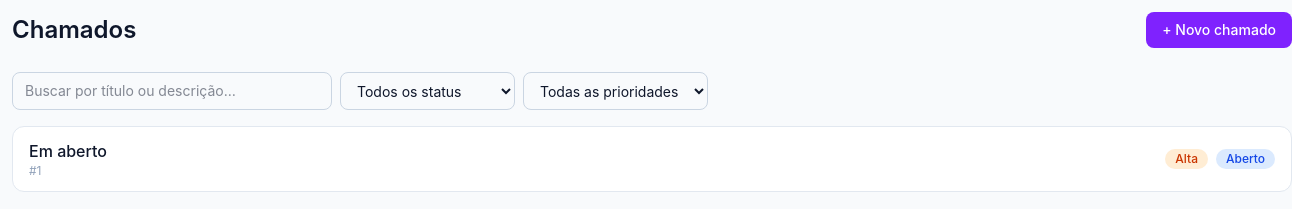
Test: TicketsPage › refaz a busca com o filtro de status na query string
Check: the text "Em aberto" is shown, box x1=29 y1=139 x2=107 y2=163
Select "Resolvido" in the dropdown named "Filtrar por status" at x=428, y=91, box x1=340 y1=72 x2=515 y2=110
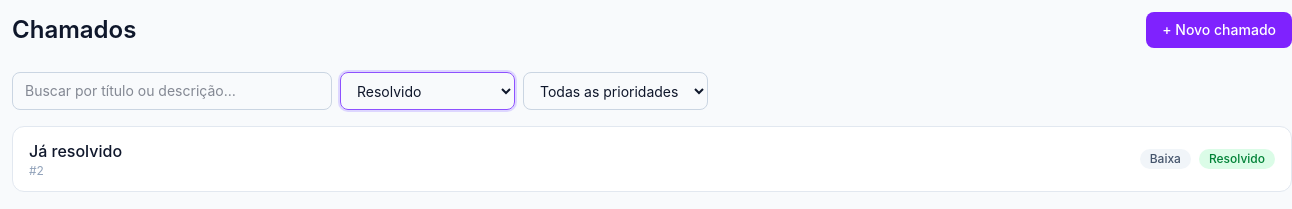
Check: the text "Já resolvido" is shown, box x1=29 y1=139 x2=122 y2=163
Check: the link "Em aberto" is gone
